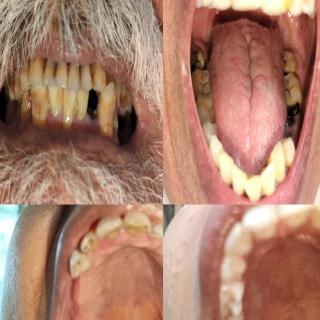calculus: (64, 103, 82, 127)
cavities: (190, 37, 212, 70), (199, 64, 217, 100), (282, 83, 306, 105), (278, 56, 293, 72)
stains: (32, 91, 46, 129), (90, 60, 106, 92), (46, 60, 54, 80), (77, 64, 86, 80)
